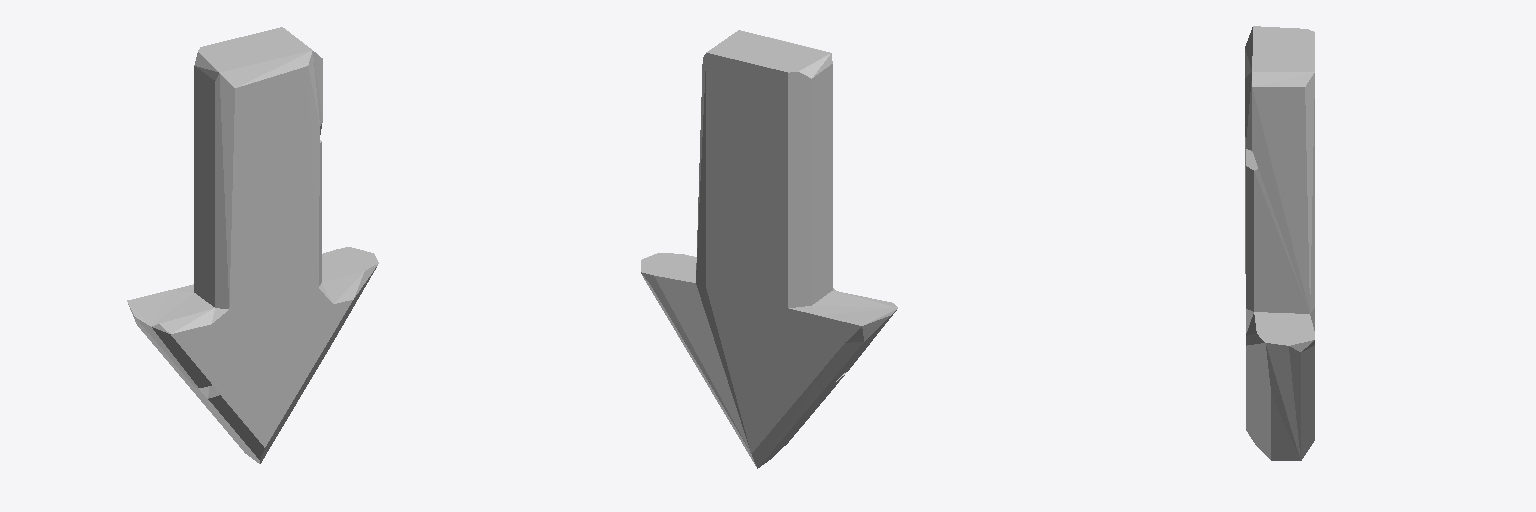
File: arrow.obj
3 views of the same model, side by side, from view 1: azimuth 30°, elevation 25°; view 2: azimuth 150°, elevation 25°; view 3: azimuth 270°, elevation 25° (orthographic).
Visible parts, largest first — view 1: Cube.001; view 2: Cube.001; view 3: Cube.001.
Part boxes in pixels (x1,y1,x2,y2): Cube.001: (127,27,378,463); Cube.001: (641,30,897,468); Cube.001: (1245,26,1314,460).
Bounding box in the file's own units: 1.5 × 2.41 × 0.3732.